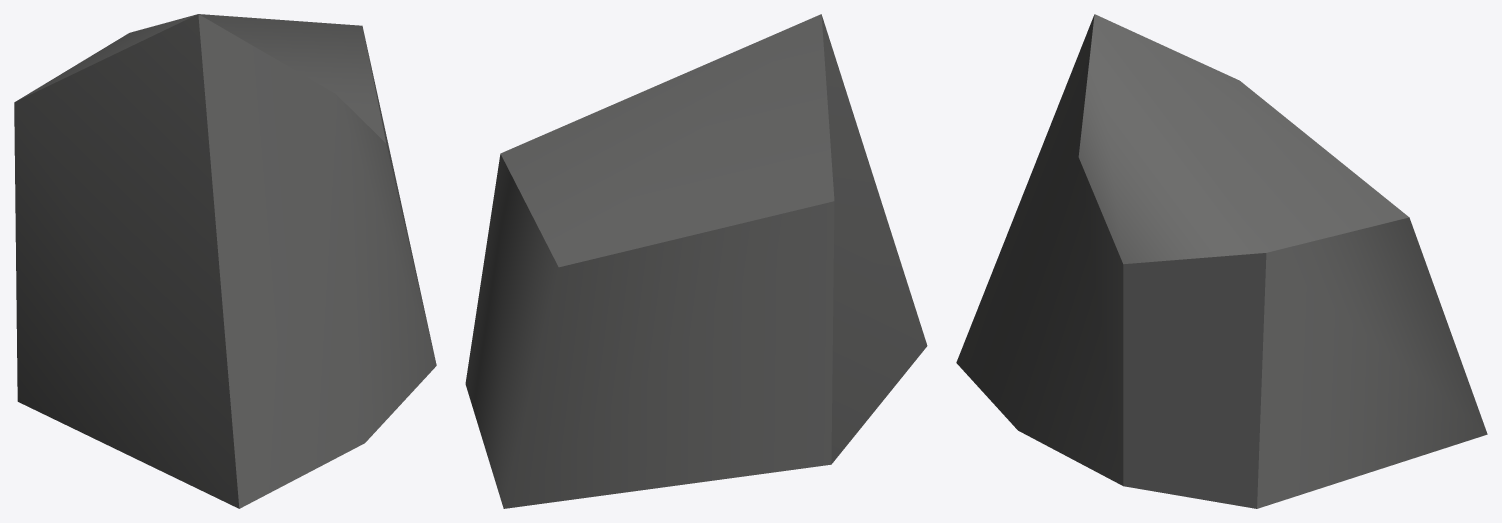
Rendered from rock3.fbx.
3 views of the same model, side by side, from view 1: azimuth 30°, elevation 25°; view 2: azimuth 150°, elevation 25°; view 3: azimuth 270°, elevation 25° (orthographic). The views are drawn at different scales.
Visible parts, largest first — view 1: pCube1; view 2: pCube1; view 3: pCube1.
Boxes of the visible parts, x1=… form: pCube1: x1=14, y1=14, x2=436, y2=508; pCube1: x1=465, y1=14, x2=927, y2=508; pCube1: x1=956, y1=14, x2=1487, y2=508.
Size of the model in its own units: 1.26 by 1.25 by 1.65.
1 material, 1 textured.
